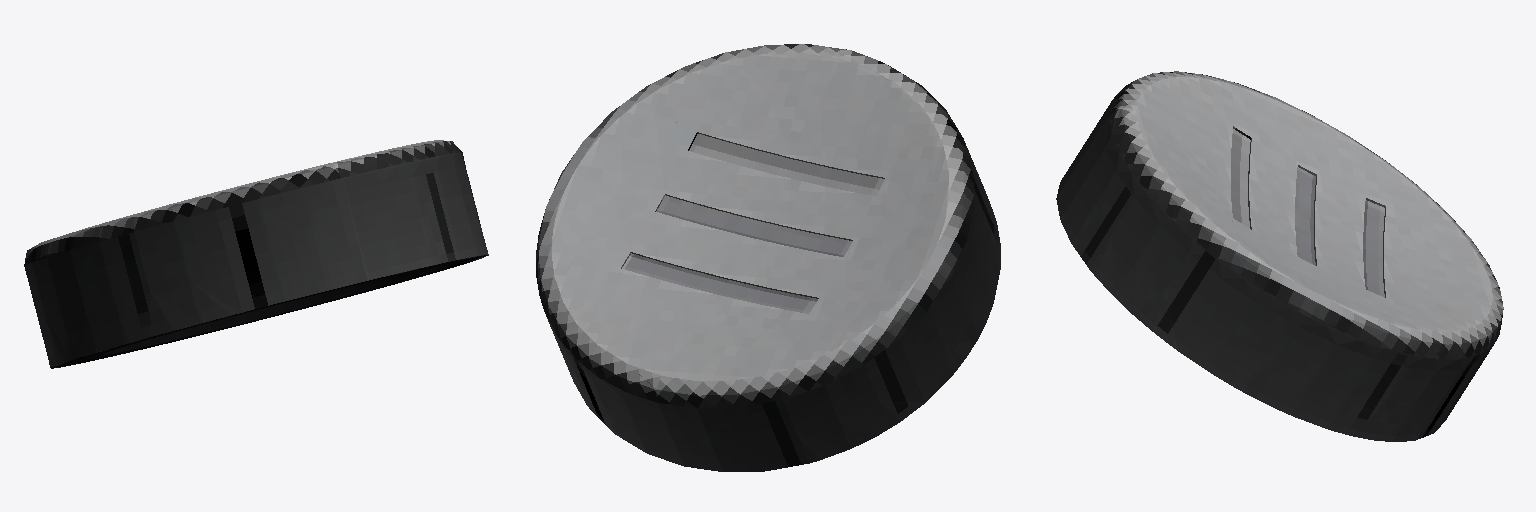
The picture shows the model from 3 angles: view 1: azimuth 30°, elevation 25°; view 2: azimuth 150°, elevation 25°; view 3: azimuth 270°, elevation 25°; orthographic projection.
Parts seen in each view (by area): view 1: button_enter.002; view 2: button_enter.002; view 3: button_enter.002.
Boxes of the visible parts, <box> form: button_enter.002: <box>24,140,488,368</box>; button_enter.002: <box>536,44,1000,471</box>; button_enter.002: <box>1056,71,1503,441</box>.
Bounding box in the file's own units: 0.01 × 0.0072 × 0.0099.
1 materials, 1 textured.